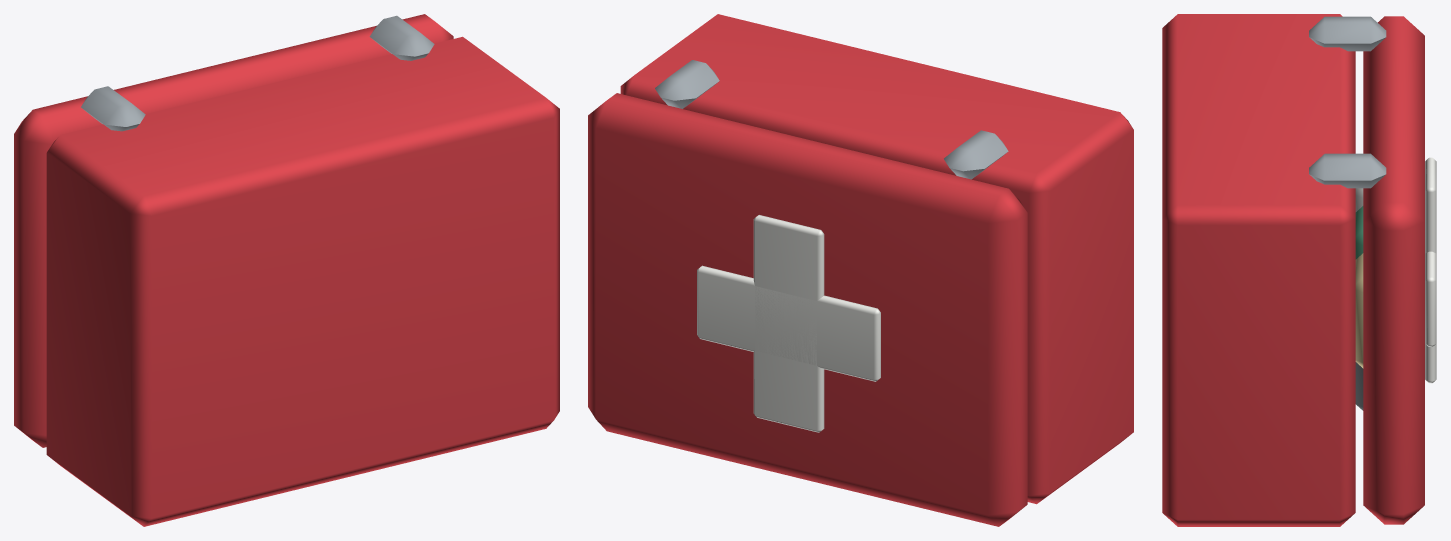
File: FirstAidKit.fbx
3 views of the same model, side by side, from view 1: azimuth 30°, elevation 25°; view 2: azimuth 150°, elevation 25°; view 3: azimuth 270°, elevation 25° (orthographic). The views are drawn at different scales.
Visible parts, largest first — view 1: Kit_Base, Kit_Lid, Kit_Metal_Latch, Kit_Metal_Latch.001; view 2: Kit_Lid, Kit_Base, Kit_Cross_Horizontal, Kit_Cross_Vertical, Kit_Metal_Latch, Kit_Metal_Latch.001; view 3: Kit_Base, Kit_Lid, Kit_Metal_Latch.001, Kit_Metal_Latch, Kit_Cross_Vertical, Kit_Cross_Horizontal, Kit_Bandage, Kit_Dressing, Kit_Handle.001.
Part boxes in pixels (left/top/right/bottom): Kit_Base: left=46, top=36, right=559, bottom=526; Kit_Lid: left=14, top=14, right=453, bottom=447; Kit_Metal_Latch: left=81, top=86, right=145, bottom=131; Kit_Metal_Latch.001: left=369, top=15, right=434, bottom=60; Kit_Lid: left=588, top=93, right=1027, bottom=526; Kit_Base: left=620, top=14, right=1133, bottom=504; Kit_Cross_Horizontal: left=697, top=265, right=880, bottom=381; Kit_Cross_Vertical: left=753, top=215, right=824, bottom=432; Kit_Metal_Latch: left=944, top=130, right=1008, bottom=179; Kit_Metal_Latch.001: left=655, top=60, right=719, bottom=108; Kit_Base: left=1162, top=14, right=1355, bottom=526; Kit_Lid: left=1363, top=16, right=1424, bottom=524; Kit_Metal_Latch.001: left=1309, top=153, right=1386, bottom=188; Kit_Metal_Latch: left=1309, top=16, right=1386, bottom=51; Kit_Cross_Vertical: left=1425, top=157, right=1436, bottom=383; Kit_Cross_Horizontal: left=1425, top=251, right=1436, bottom=346; Kit_Bandage: left=1355, top=253, right=1363, bottom=368; Kit_Dressing: left=1355, top=206, right=1363, bottom=259; Kit_Handle.001: left=1355, top=362, right=1363, bottom=410.
Bounding box in the file's own units: 1.25 × 0.98 × 0.71.
